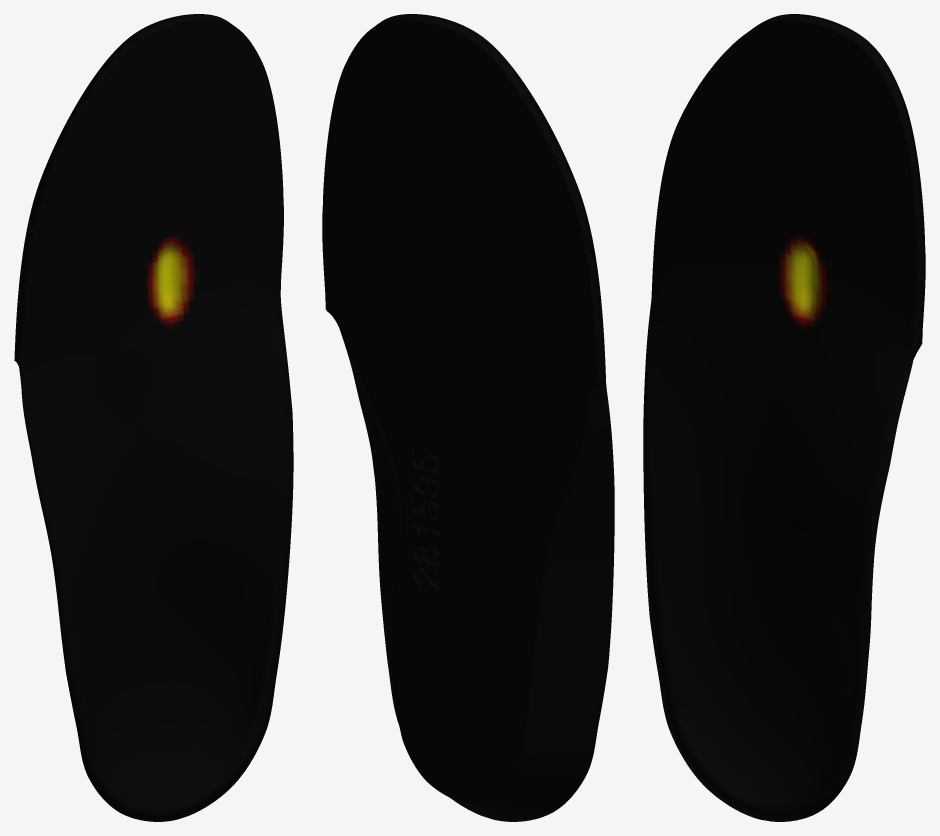
The model's file is PAIR-OFFLOAD-2ND_LEFT.glb.
3 renders of one model, left to right at view 1: azimuth 30°, elevation 25°; view 2: azimuth 150°, elevation 25°; view 3: azimuth 330°, elevation 25°, orthographic. The views are drawn at different scales.
Visible parts, largest first — view 1: world; view 2: world; view 3: world.
Part boxes in pixels (box(x1,y1,x2,y2)): world: box(14, 14, 293, 821); world: box(322, 14, 614, 821); world: box(643, 14, 925, 821).
Size of the model in its own units: 99.58 by 279 by 21.85.
